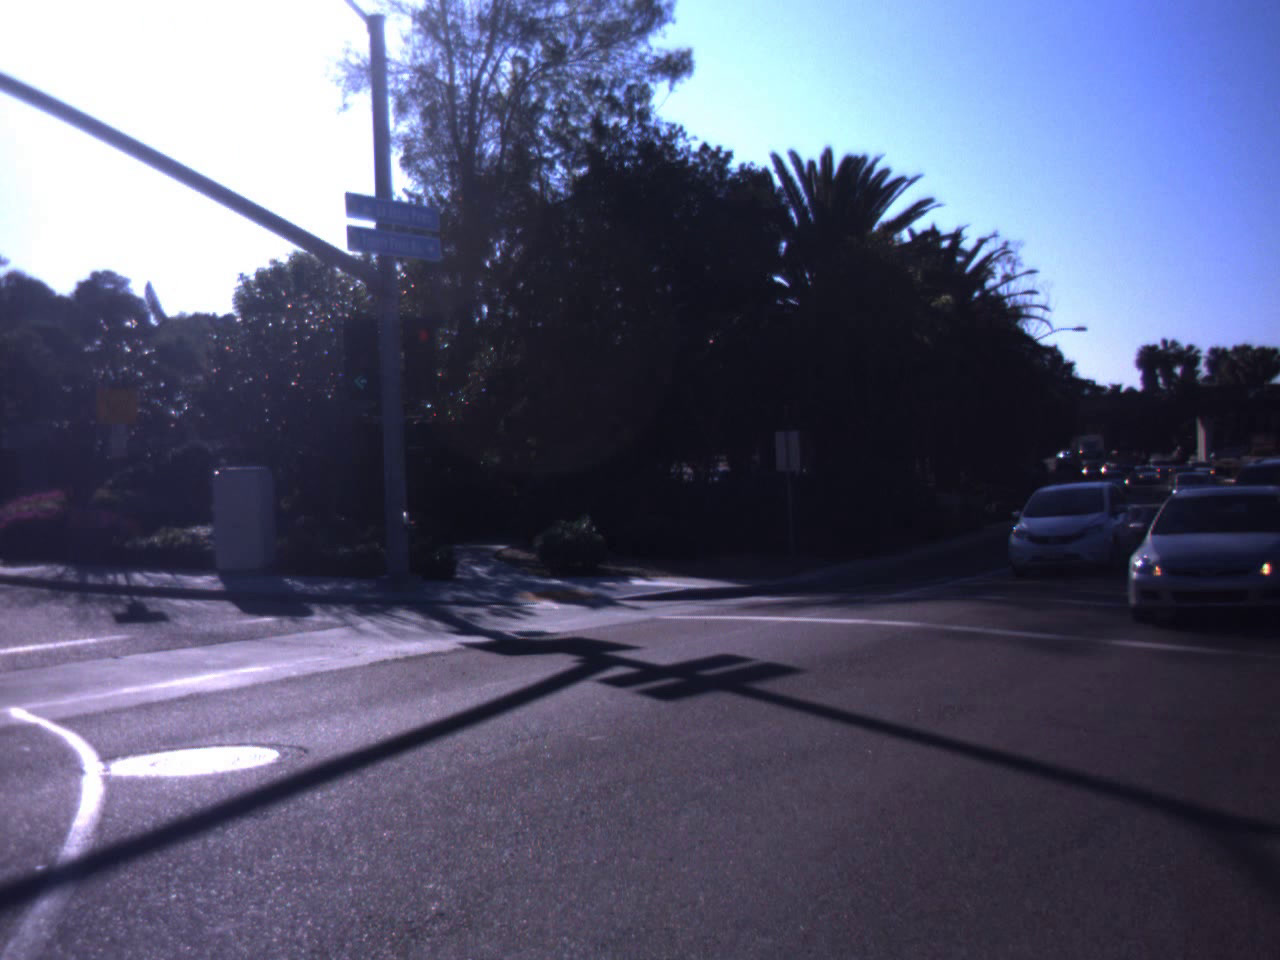go: (338, 328, 383, 393)
